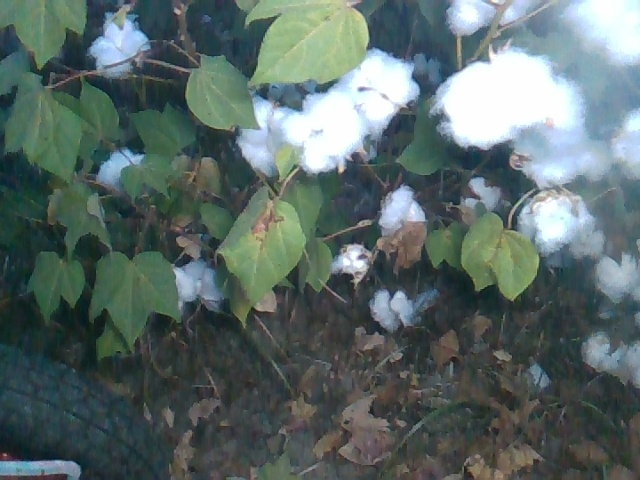cotton: (435, 48, 640, 184), (305, 50, 416, 173), (534, 1, 640, 69), (516, 194, 603, 265), (239, 94, 305, 177), (88, 14, 149, 79), (448, 1, 532, 40), (586, 334, 640, 387), (173, 260, 226, 312), (375, 291, 437, 329), (96, 149, 145, 197), (378, 186, 423, 234), (597, 253, 640, 300), (464, 175, 508, 217), (334, 245, 373, 280), (529, 364, 551, 390)
